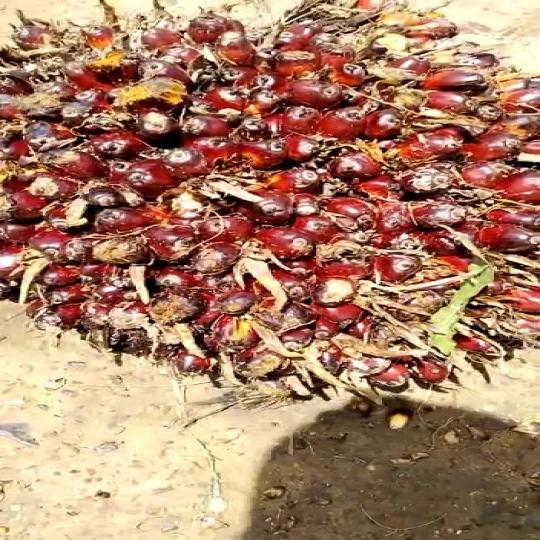masak: (0, 0, 540, 395)
